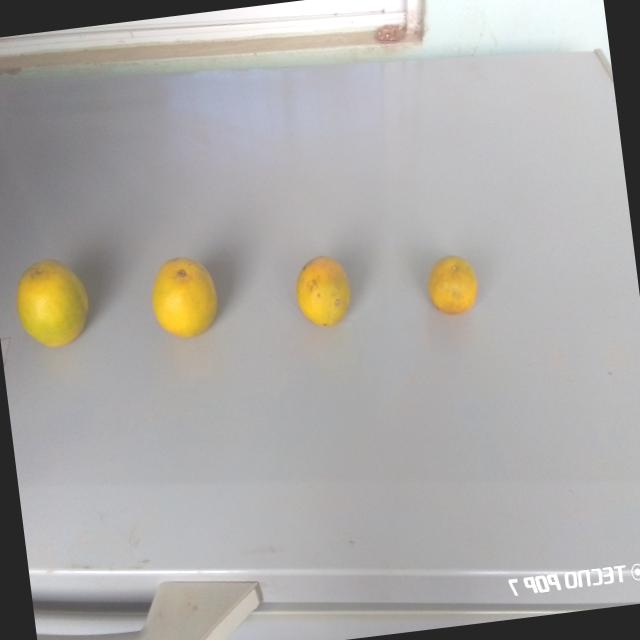Ripe orange: (8, 244, 98, 358), (144, 246, 235, 352), (286, 249, 360, 334), (424, 249, 481, 325)
